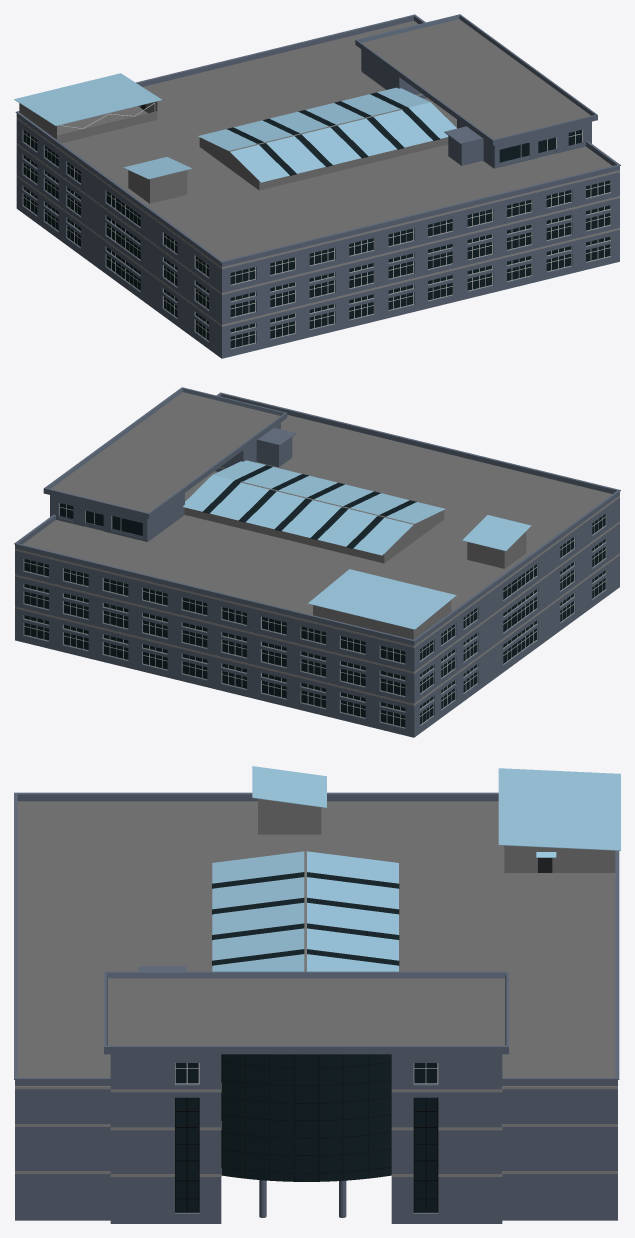
File: factory3.fbx
3 views of the same model, one above another, from view 1: azimuth 30°, elevation 25°; view 2: azimuth 150°, elevation 25°; view 3: azimuth 270°, elevation 25° (orthographic). The views are drawn at different scales.
Visible parts, largest first — view 1: Obj3d66-1710141-90-885, Obj3d66-1710141-93-276, Obj3d66-1710141-87-355, Obj3d66-1710141-91-869, Obj3d66-1710141-88-517, Obj3d66-1710141-92-295, Obj3d66-1710141-89-902; view 2: Obj3d66-1710141-93-276, Obj3d66-1710141-90-885, Obj3d66-1710141-87-355, Obj3d66-1710141-91-869, Obj3d66-1710141-88-517, Obj3d66-1710141-92-295, Obj3d66-1710141-89-902; view 3: Obj3d66-1710141-90-885, Obj3d66-1710141-93-276, Obj3d66-1710141-87-355, Obj3d66-1710141-91-869, Obj3d66-1710141-94-675, Obj3d66-1710141-92-295, Obj3d66-1710141-89-902.
Boxes of the visible parts, x1,y1,x2,y2 form: Obj3d66-1710141-90-885: (57, 19, 611, 260); Obj3d66-1710141-93-276: (15, 14, 620, 358); Obj3d66-1710141-87-355: (23, 92, 610, 348); Obj3d66-1710141-91-869: (14, 73, 456, 182); Obj3d66-1710141-88-517: (23, 129, 611, 348); Obj3d66-1710141-92-295: (19, 101, 448, 203); Obj3d66-1710141-89-902: (16, 72, 619, 326); Obj3d66-1710141-93-276: (14, 387, 620, 737); Obj3d66-1710141-90-885: (23, 392, 611, 615); Obj3d66-1710141-87-355: (24, 465, 605, 727); Obj3d66-1710141-91-869: (183, 460, 531, 629); Obj3d66-1710141-88-517: (23, 503, 606, 727); Obj3d66-1710141-92-295: (184, 481, 526, 639); Obj3d66-1710141-89-902: (15, 462, 619, 705); Obj3d66-1710141-90-885: (17, 801, 615, 1077); Obj3d66-1710141-93-276: (14, 792, 619, 1223); Obj3d66-1710141-87-355: (175, 872, 437, 1211); Obj3d66-1710141-91-869: (212, 766, 620, 971); Obj3d66-1710141-94-675: (175, 872, 438, 1212); Obj3d66-1710141-92-295: (258, 799, 615, 971); Obj3d66-1710141-89-902: (15, 1083, 617, 1176).
Bounding box in the file's own units: 62289 × 17855 × 54600.
